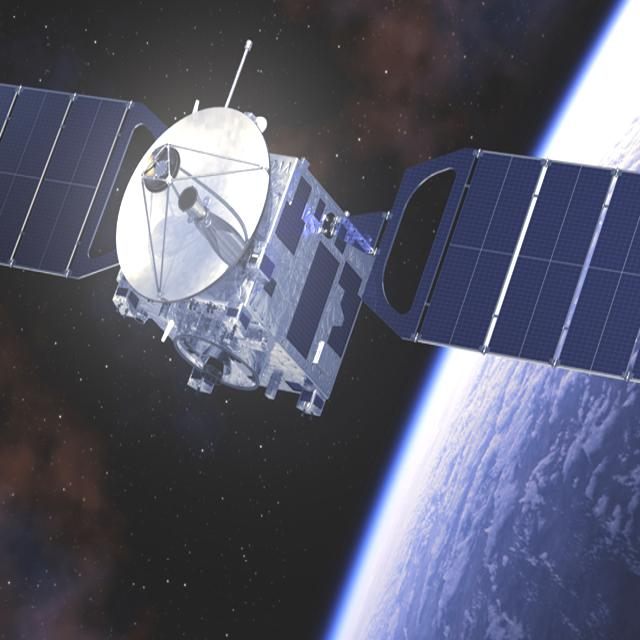satellite: (0, 39, 640, 479)
